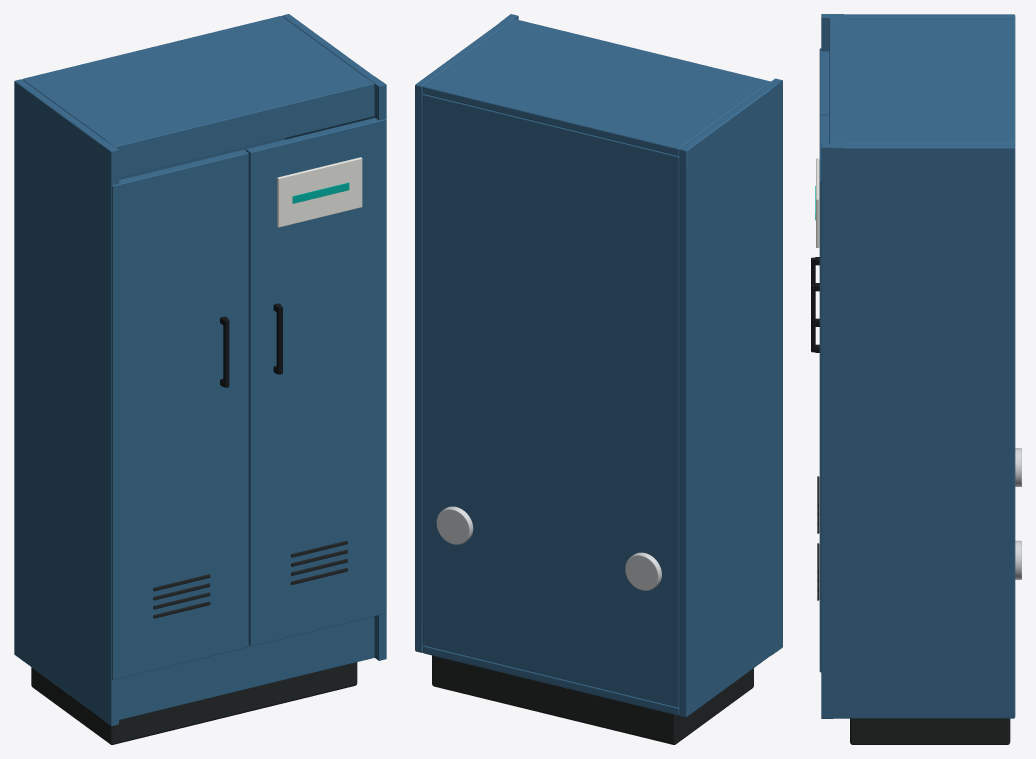
Rendered from chemical-cabinet.glb.
3 views of the same model, side by side, from view 1: azimuth 30°, elevation 25°; view 2: azimuth 150°, elevation 25°; view 3: azimuth 270°, elevation 25° (orthographic).
Visible parts, largest first — view 1: Runtime batch - Chemical cabinet blue epoxy enamel, Runtime batch - __moving__Access - Safety cabinet door 2, Runtime batch - __moving__Access - Safety cabinet door 1, Runtime batch - Casework seam shadow; view 2: Runtime batch - Chemical cabinet blue epoxy enamel, Runtime batch - Casework seam shadow, Runtime batch - __moving__Access - Safety cabinet door 2, Runtime batch - __moving__Access - Safety cabinet door 1; view 3: Runtime batch - Chemical cabinet blue epoxy enamel, Runtime batch - Casework seam shadow, Runtime batch - __moving__Access - Safety cabinet door 2, Runtime batch - __moving__Access - Safety cabinet door 1.
Part boxes in pixels (x1,y1,x2,y2): Runtime batch - Chemical cabinet blue epoxy enamel: (14, 14, 386, 726); Runtime batch - __moving__Access - Safety cabinet door 2: (246, 118, 386, 646); Runtime batch - __moving__Access - Safety cabinet door 1: (112, 150, 248, 679); Runtime batch - Casework seam shadow: (31, 662, 357, 744); Runtime batch - Chemical cabinet blue epoxy enamel: (415, 14, 782, 717); Runtime batch - Casework seam shadow: (432, 655, 753, 744); Runtime batch - __moving__Access - Safety cabinet door 2: (436, 506, 473, 544); Runtime batch - __moving__Access - Safety cabinet door 1: (625, 552, 661, 590); Runtime batch - Chemical cabinet blue epoxy enamel: (821, 14, 1015, 718); Runtime batch - Casework seam shadow: (850, 718, 1010, 744); Runtime batch - __moving__Access - Safety cabinet door 2: (811, 115, 1021, 672); Runtime batch - __moving__Access - Safety cabinet door 1: (811, 48, 1021, 533).
Size of the model in its own units: 0.9 by 1.9 by 0.6.
